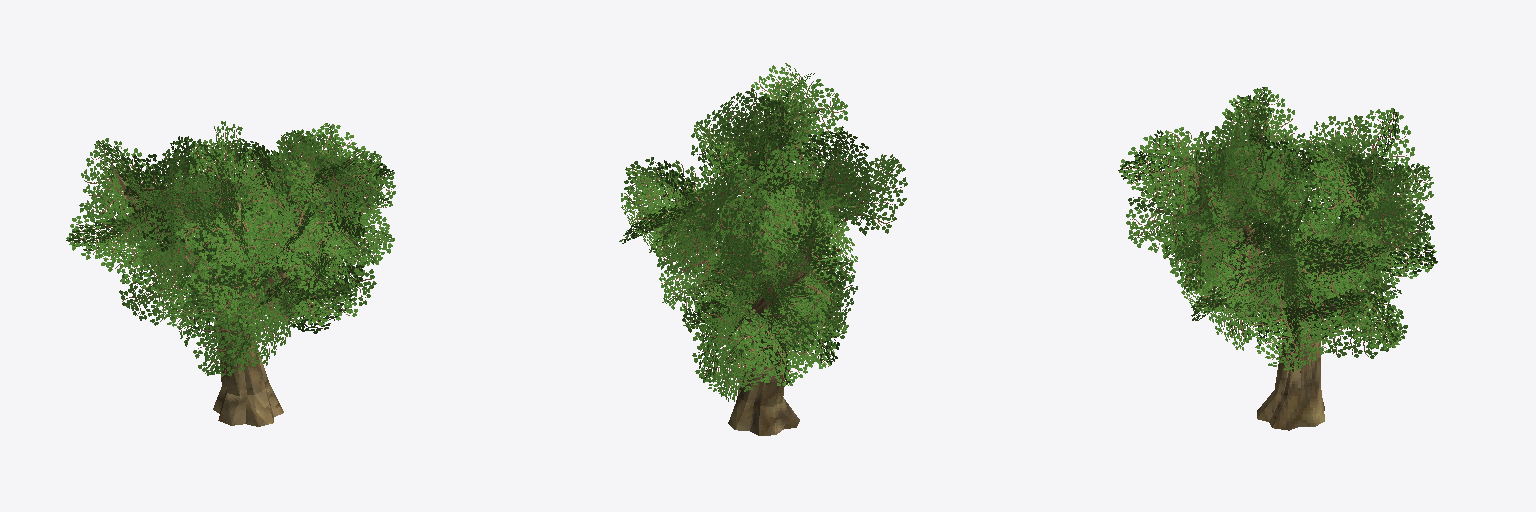
3 renders of one model, left to right at view 1: azimuth 30°, elevation 25°; view 2: azimuth 150°, elevation 25°; view 3: azimuth 270°, elevation 25°, orthographic.
Visible parts, largest first — view 1: Plane.044_Plane; view 2: Plane.044_Plane; view 3: Plane.044_Plane.
Boxes of the visible parts, x1=… form: Plane.044_Plane: x1=66, y1=121, x2=395, y2=426; Plane.044_Plane: x1=619, y1=63, x2=907, y2=435; Plane.044_Plane: x1=1118, y1=87, x2=1437, y2=430.
Size of the model in its own units: 8.06 by 7.84 by 8.05.
Materials: 2 (2 with a texture image).